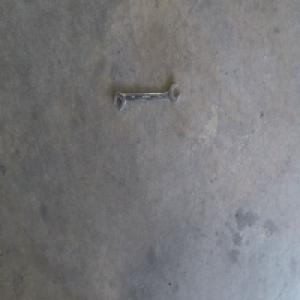Wrench: (115, 82, 180, 110)
